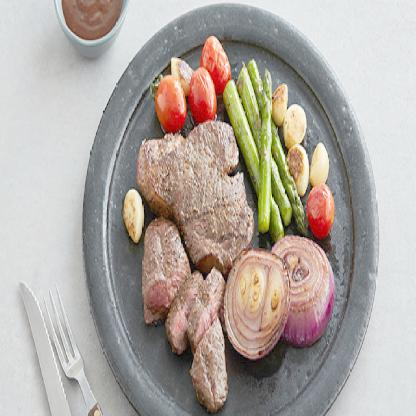Carne: (142, 113, 248, 252), (145, 219, 190, 310), (190, 324, 225, 414), (170, 271, 199, 355), (193, 268, 224, 344)
